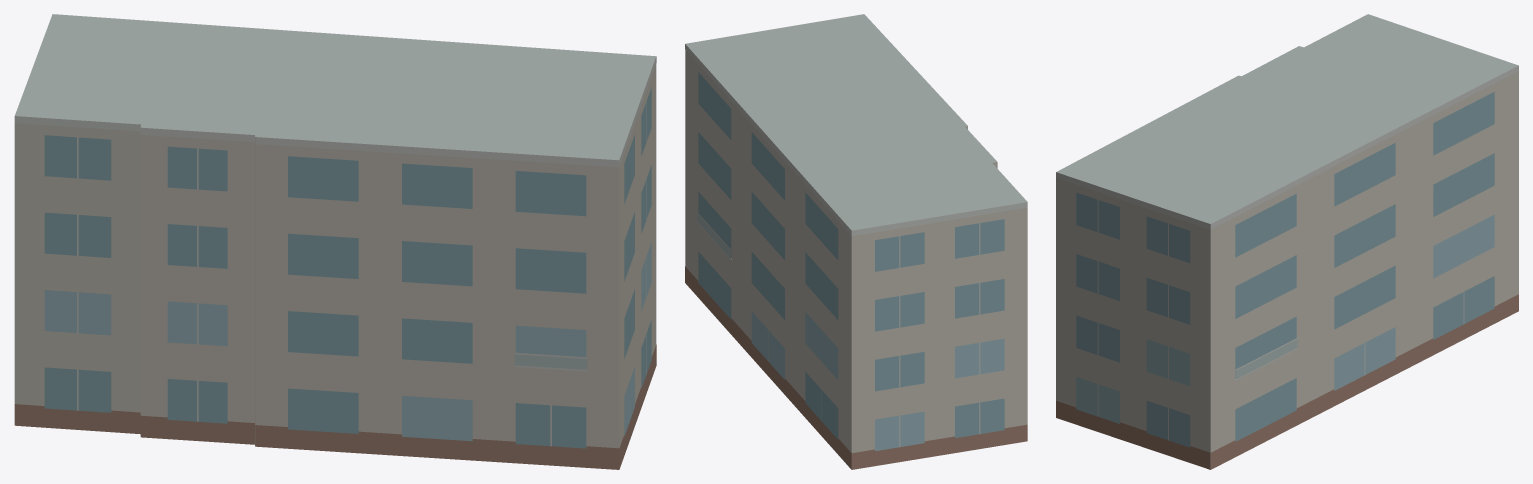
Rendered from survey-upis-32516584.glb.
3 views of the same model, side by side, from view 1: azimuth 30°, elevation 25°; view 2: azimuth 150°, elevation 25°; view 3: azimuth 270°, elevation 25° (orthographic). The views are drawn at different scales.
Visible parts, largest first — view 1: survey-upis-32516584.tmp; view 2: survey-upis-32516584.tmp; view 3: survey-upis-32516584.tmp.
Boxes of the visible parts, left/top/right/bottom form: survey-upis-32516584.tmp: left=14, top=14, right=656, bottom=469; survey-upis-32516584.tmp: left=685, top=14, right=1027, bottom=469; survey-upis-32516584.tmp: left=1056, top=14, right=1518, bottom=469.
Size of the model in its own units: 19.45 by 10.6 by 18.1.
